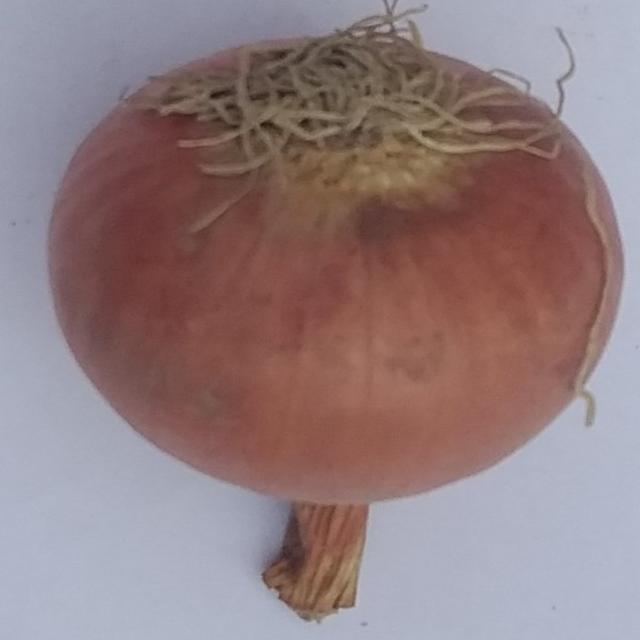onion: (43, 3, 623, 622)
